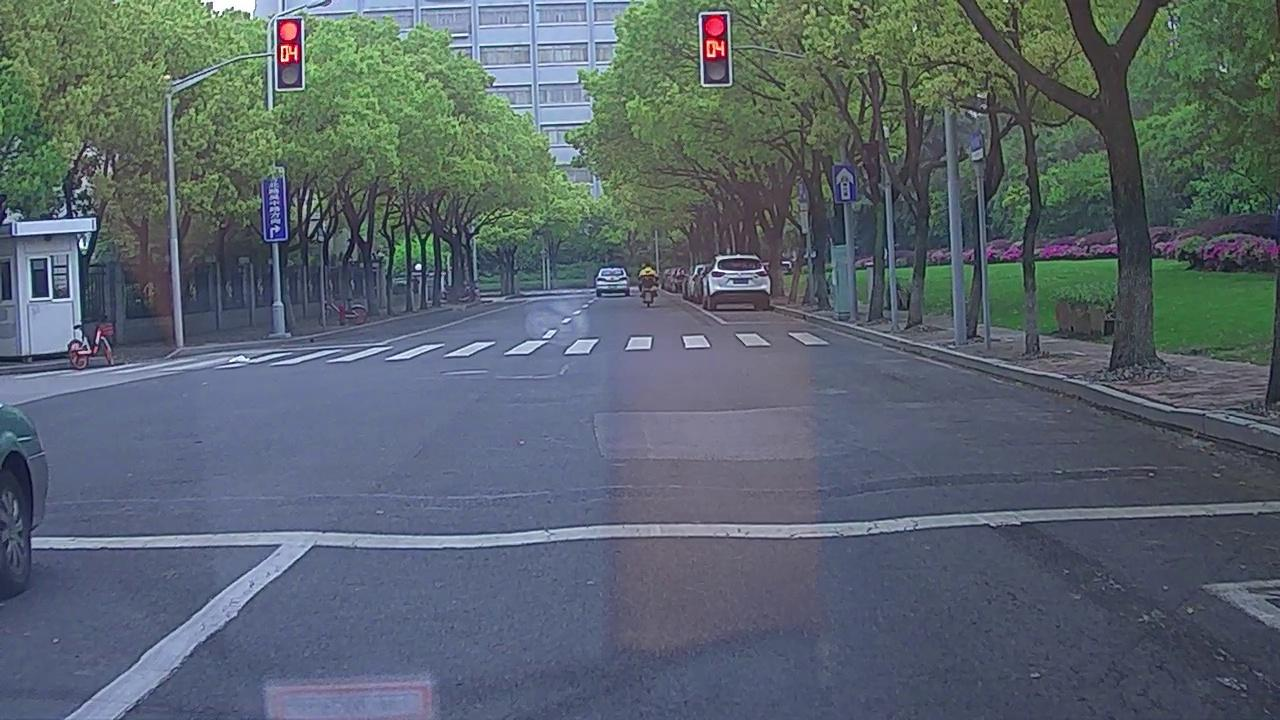traffic_light: (275, 16, 303, 92), (703, 11, 731, 87)
